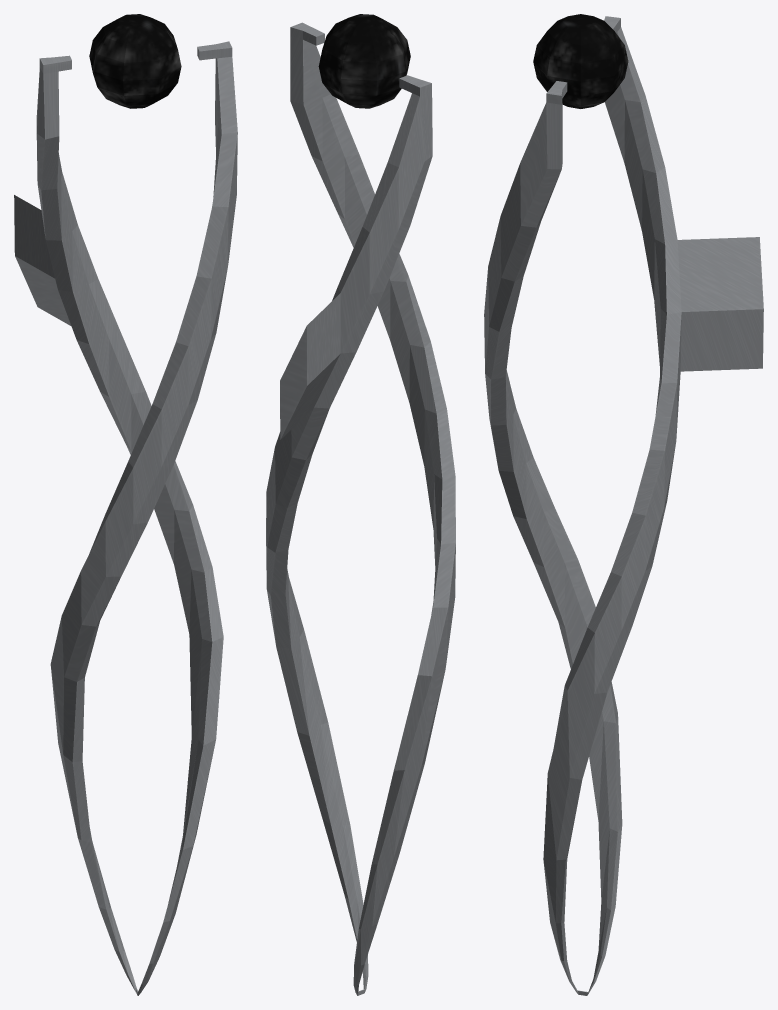
File: torch.fbx
3 renders of one model, left to right at view 1: azimuth 30°, elevation 25°; view 2: azimuth 150°, elevation 25°; view 3: azimuth 270°, elevation 25°, orthographic.
Visible parts, largest first — view 1: Cube.002, Sphere; view 2: Cube.002, Sphere; view 3: Cube.002, Sphere.
Part boxes in pixels (x1,y1,x2,y2): Cube.002: [14, 41, 237, 995]; Sphere: [89, 14, 181, 108]; Cube.002: [266, 22, 455, 995]; Sphere: [318, 14, 410, 108]; Cube.002: [484, 16, 763, 995]; Sphere: [533, 14, 628, 108].
Bounding box in the file's own units: 8.37 × 47.58 × 12.39.
